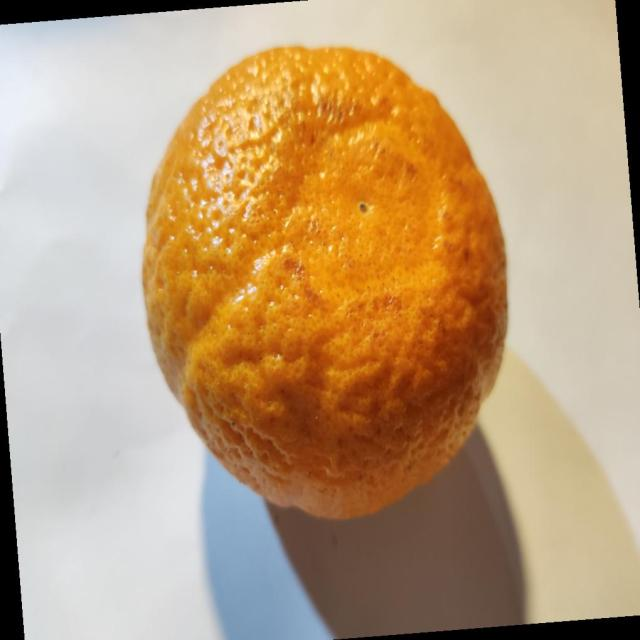fresh orange: (140, 43, 510, 521)
